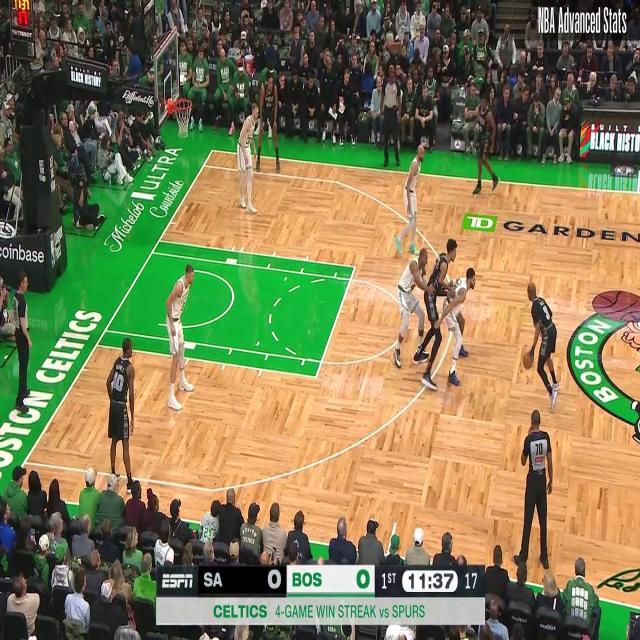ball: (518, 344, 536, 372)
player: (99, 328, 141, 494), (419, 236, 459, 396), (522, 280, 562, 414), (392, 245, 434, 370), (434, 266, 476, 388), (164, 262, 196, 412), (392, 142, 426, 259), (468, 90, 500, 202), (234, 100, 262, 216), (256, 72, 284, 178)
